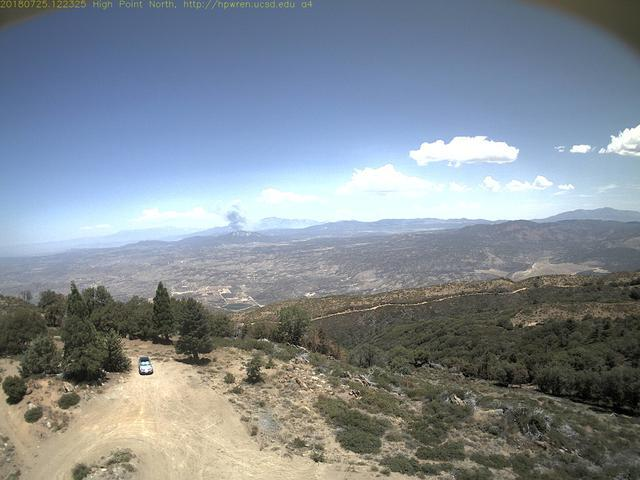smoke: (219, 205, 254, 239)
